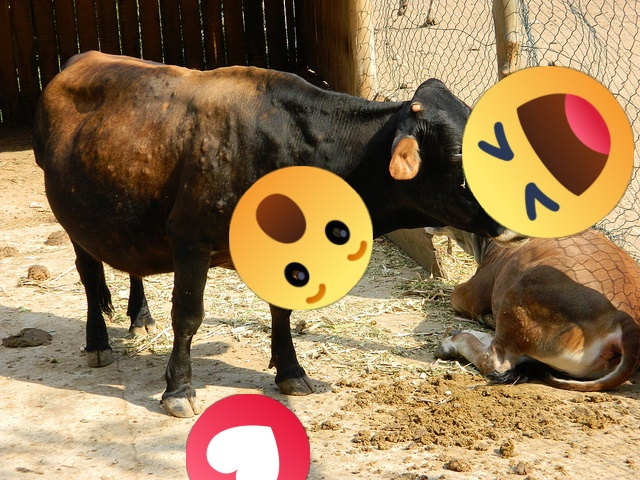haha: (462, 66, 634, 238)
love: (186, 394, 310, 480)
wow: (229, 166, 373, 310)
